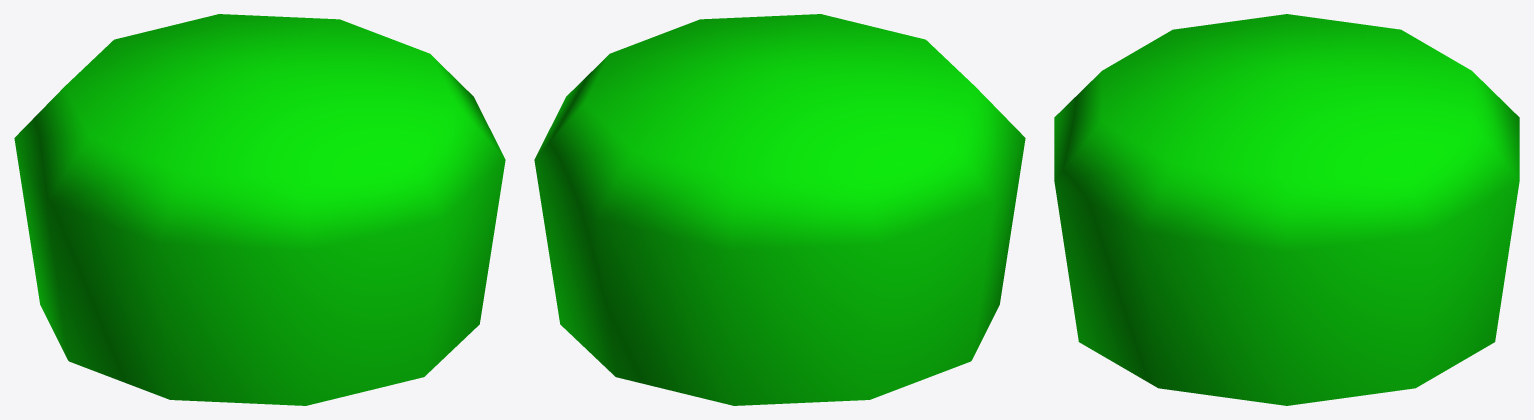
Rendered from Craft_Cork_01.fbx.
The picture shows the model from 3 angles, left to right: view 1: azimuth 30°, elevation 25°; view 2: azimuth 150°, elevation 25°; view 3: azimuth 270°, elevation 25°; orthographic projection.
Parts seen in each view (by area): view 1: Craft_Cork_01; view 2: Craft_Cork_01; view 3: Craft_Cork_01.
Boxes of the visible parts, box(x1,y1,x2,y2) form: Craft_Cork_01: box(14, 14, 505, 405); Craft_Cork_01: box(534, 14, 1025, 405); Craft_Cork_01: box(1054, 14, 1519, 405).
Size of the model in its own units: 15.49 by 8.39 by 14.74.
